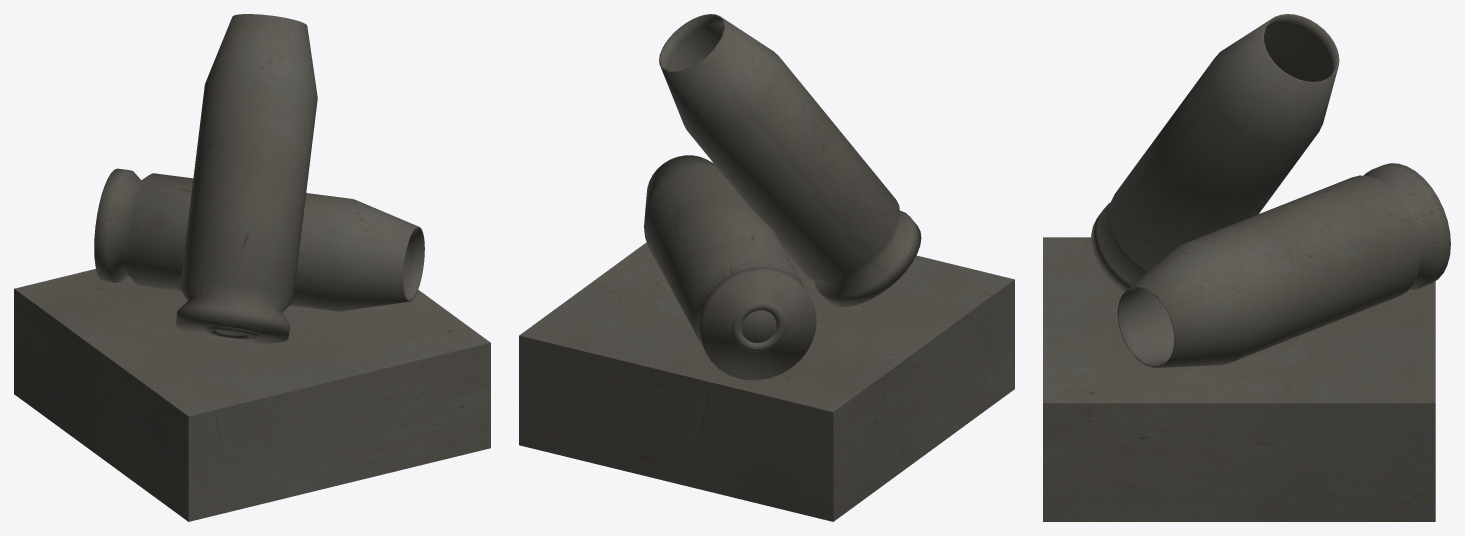
File: objekts4.glb
3 views of the same model, side by side, from view 1: azimuth 30°, elevation 25°; view 2: azimuth 150°, elevation 25°; view 3: azimuth 270°, elevation 25° (orthographic). The views are drawn at different scales.
Parts seen in each view (by area): view 1: Cylinder.005; view 2: Cylinder.005; view 3: Cylinder.005.
Boxes of the visible parts, x1=… form: Cylinder.005: x1=14, y1=14, x2=490, y2=521; Cylinder.005: x1=519, y1=14, x2=1014, y2=521; Cylinder.005: x1=1043, y1=14, x2=1450, y2=521.
Size of the model in its own units: 1.26 by 1.54 by 1.31.
Materials: 2 (2 with a texture image).
